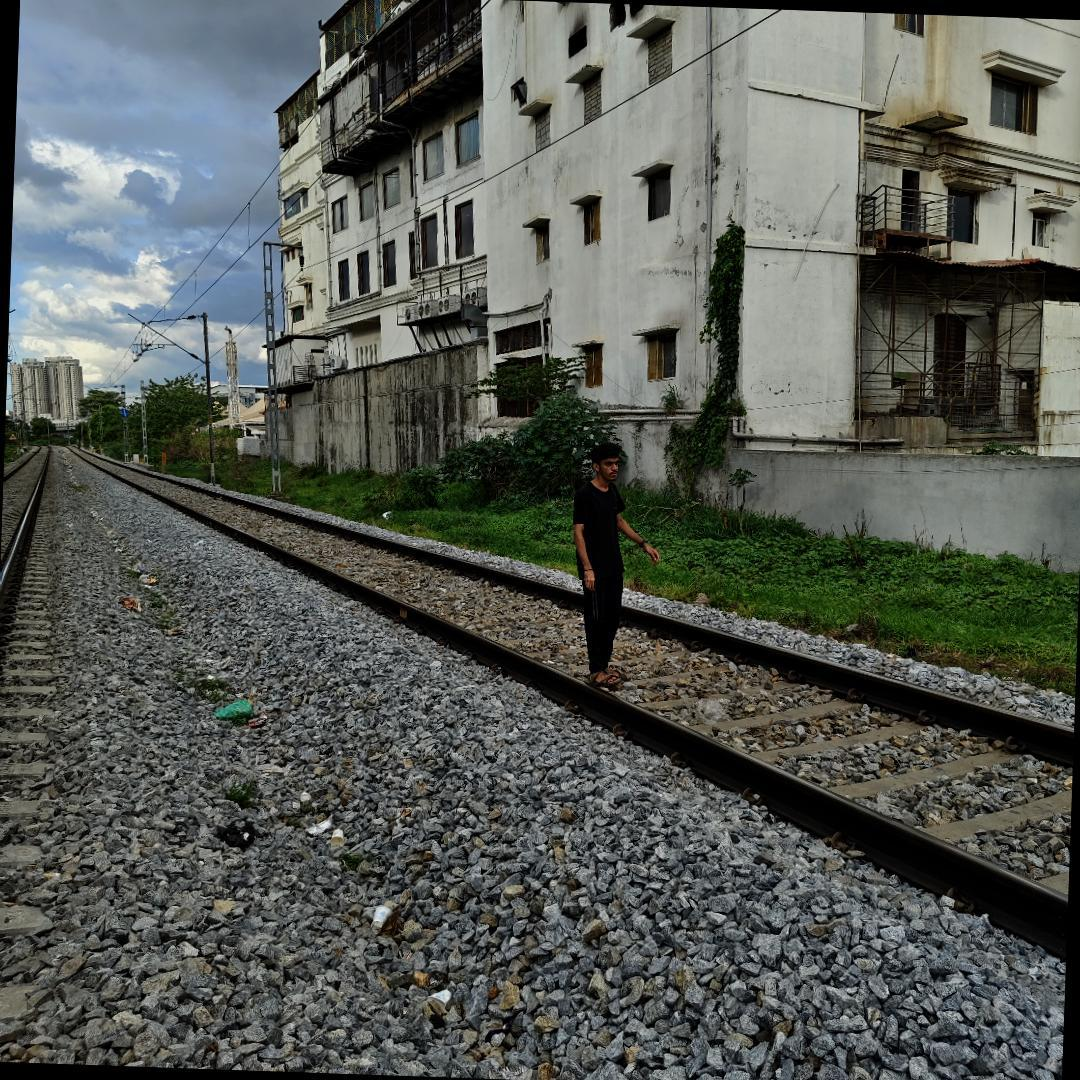standing: (557, 435, 668, 688)
